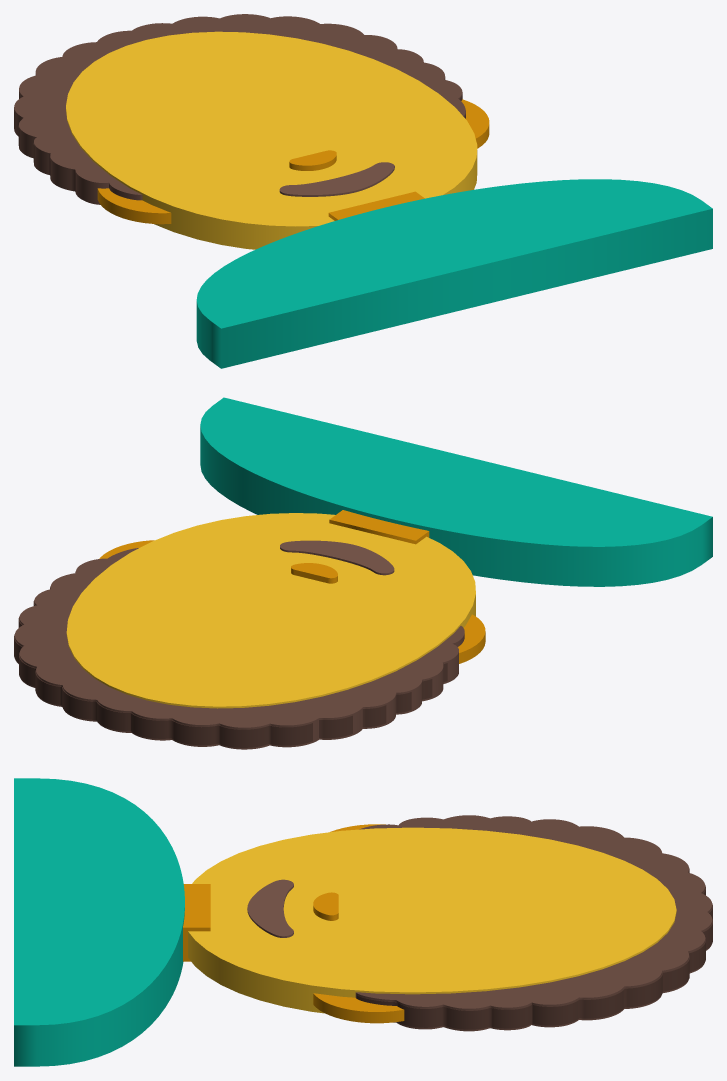
Rendered from emoji_u1f468_200d_1f9b1.glb.
3 renders of one model, top to bottom at view 1: azimuth 30°, elevation 25°; view 2: azimuth 150°, elevation 25°; view 3: azimuth 270°, elevation 25°, orthographic. The views are drawn at different scales.
Visible parts, largest first — view 1: emoji_u1f468_200d_1f9b1; view 2: emoji_u1f468_200d_1f9b1; view 3: emoji_u1f468_200d_1f9b1.
Part boxes in pixels (x1,y1,x2,y2): emoji_u1f468_200d_1f9b1: (14,14,712,368); emoji_u1f468_200d_1f9b1: (14,397,712,749); emoji_u1f468_200d_1f9b1: (14,778,712,1066).
Bounding box in the file's own units: 0.0282 × 0.0022 × 0.0337.
